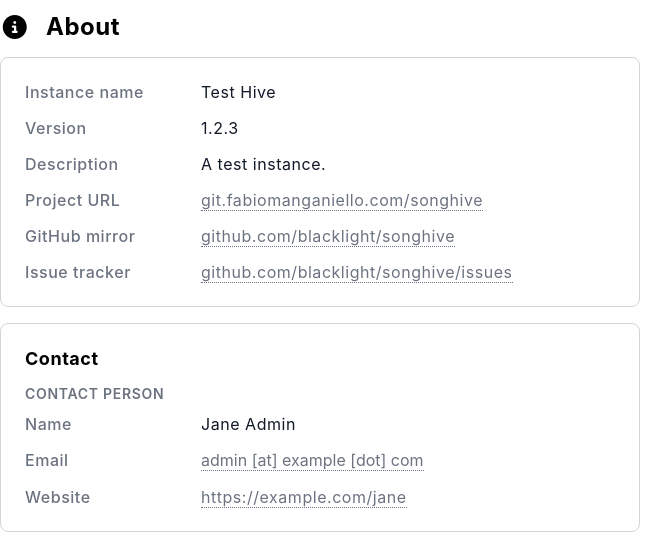
Test: AboutView › renders the configured contact person with a masked email
Click the button with class "about-view__masked-email".
click(312, 460)  # box [201,450,424,471]
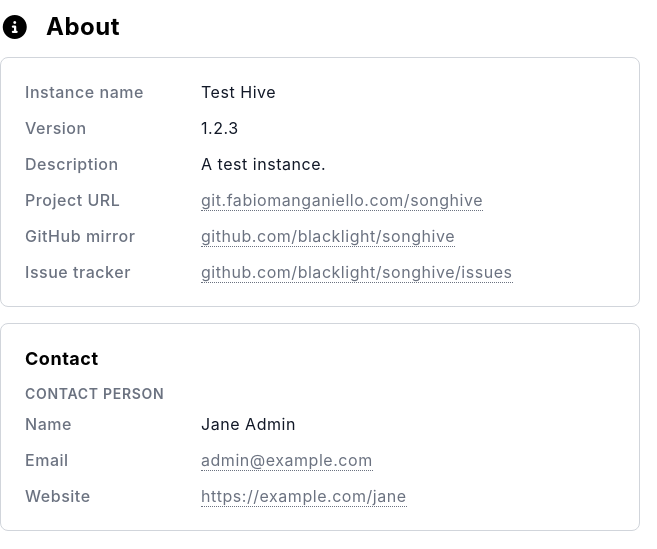
Expected: the link to "https://example.com/jane" is shown, [201,486,407,507]
Result: the link to "mailto:admin@example.com" is shown at [201,450,373,471]
